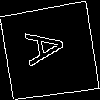A: (24, 26, 76, 68)
